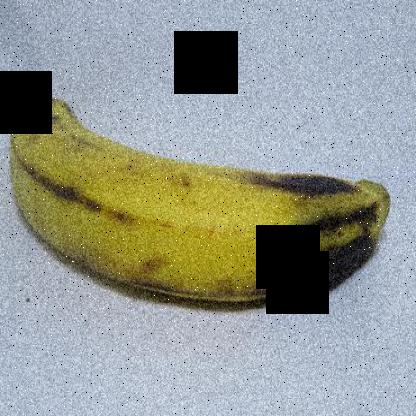ripe: (1, 73, 401, 337)
